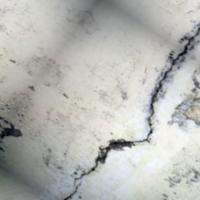crack: (57, 26, 199, 199)
